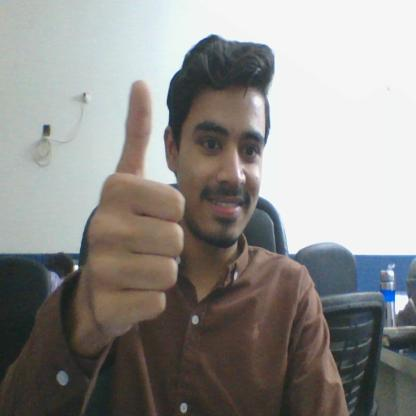thumbs-up: (78, 83, 191, 331)
